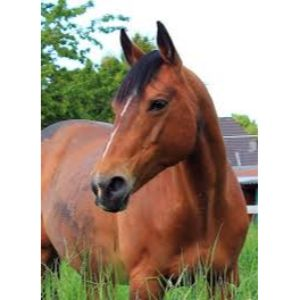horse: (45, 21, 254, 230)
